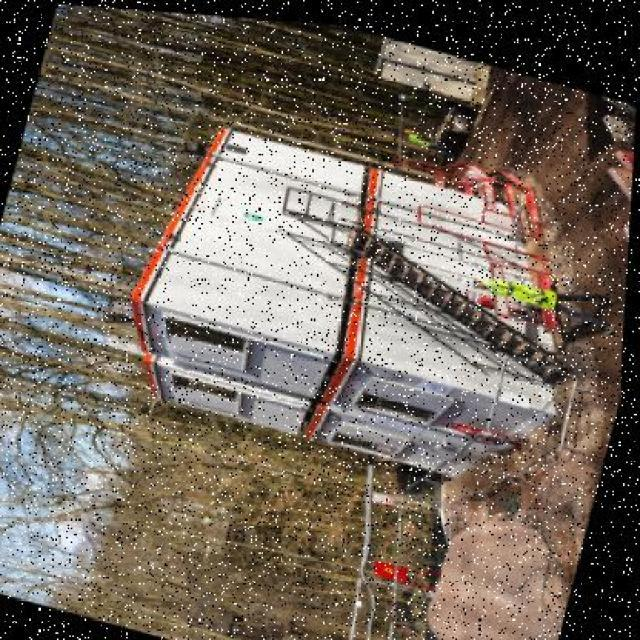helmet: (460, 263, 484, 281), (402, 118, 416, 126)
vest: (486, 262, 564, 302), (406, 125, 436, 141)
